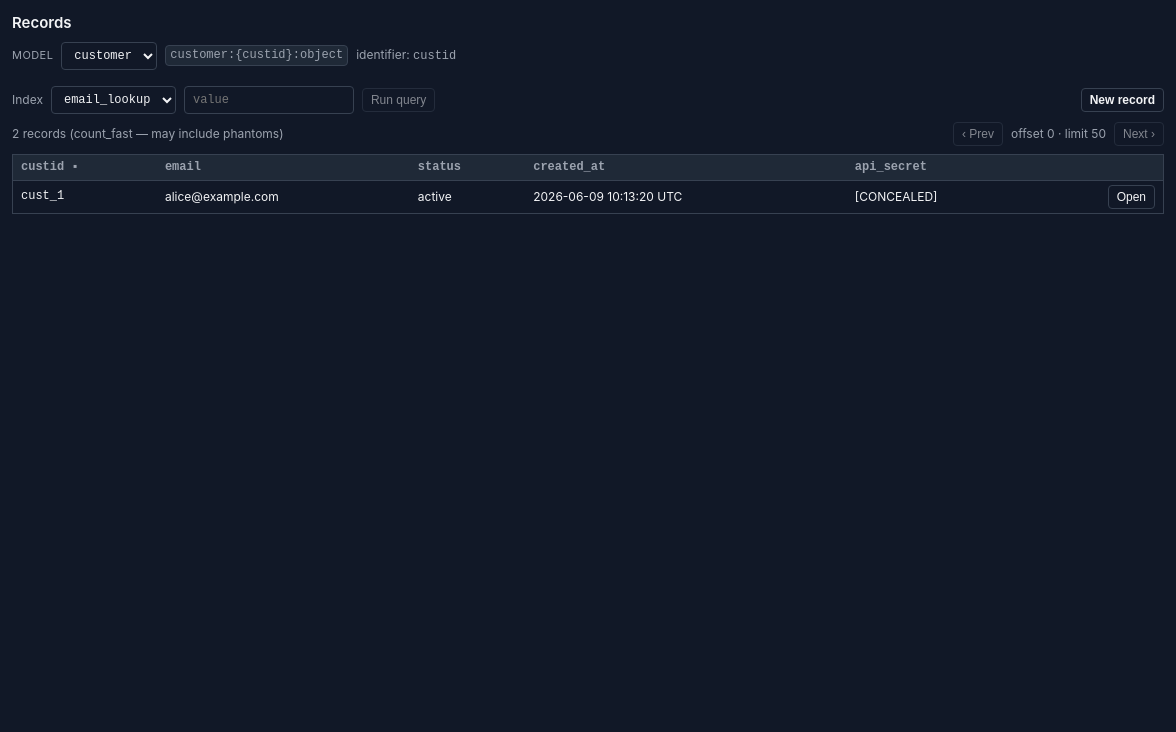
Test: record detail › renders descriptor fields: identifier, timestamps, transient-as-absent, _key
Expected: the table with test id "records-table" is shown, x1=12 y1=154 x2=1164 y2=214
Click the button with test id "records-open-cust_1" at (1131, 197), box x1=1108 y1=185 x2=1155 y2=209
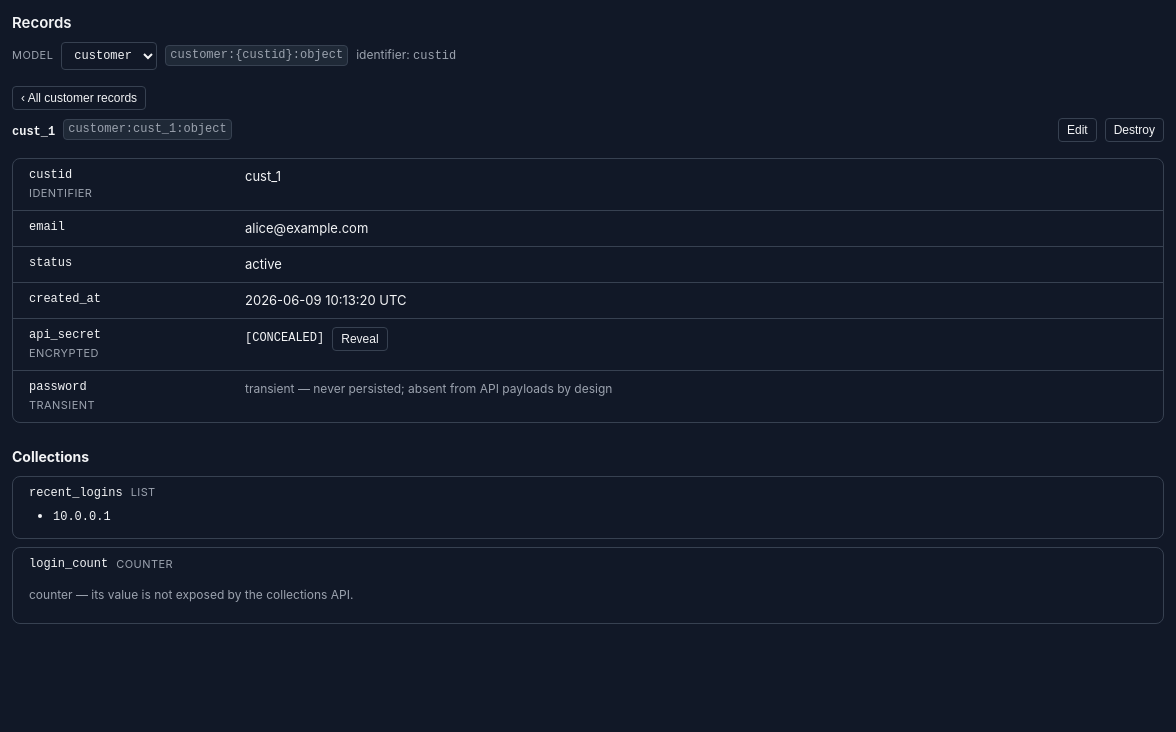
Expected: the heading with test id "records-detail-id" reads "cust_1", x1=12 y1=125 x2=55 y2=139
Expected: the text with test id "records-detail-key" reads "customer:cust_1:object", x1=68 y1=122 x2=227 y2=136
Expected: the element with test id "field-password" shows "transient — never persisted", x1=245 y1=381 x2=612 y2=396
